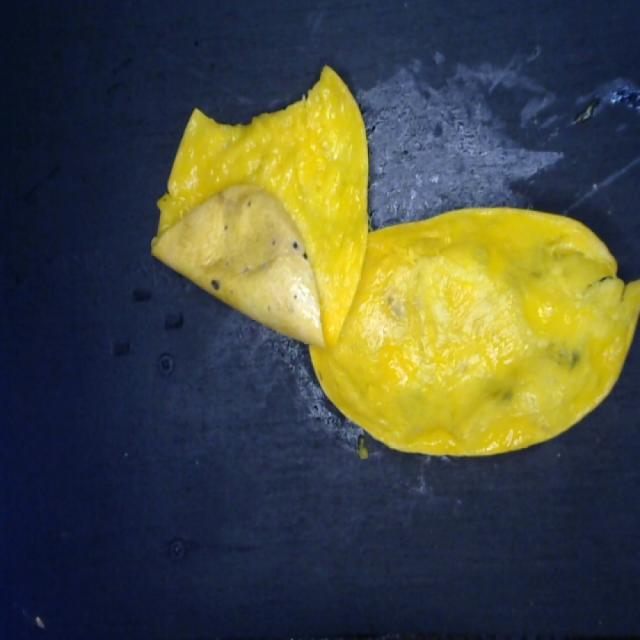biodegradable: (149, 64, 640, 460)
